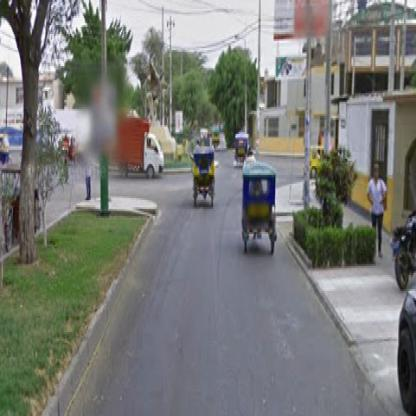Peaton: (368, 163, 388, 258)
Pista: (81, 288, 371, 388)
Vehiculo: (108, 119, 165, 180), (242, 160, 278, 256), (194, 146, 216, 208)
